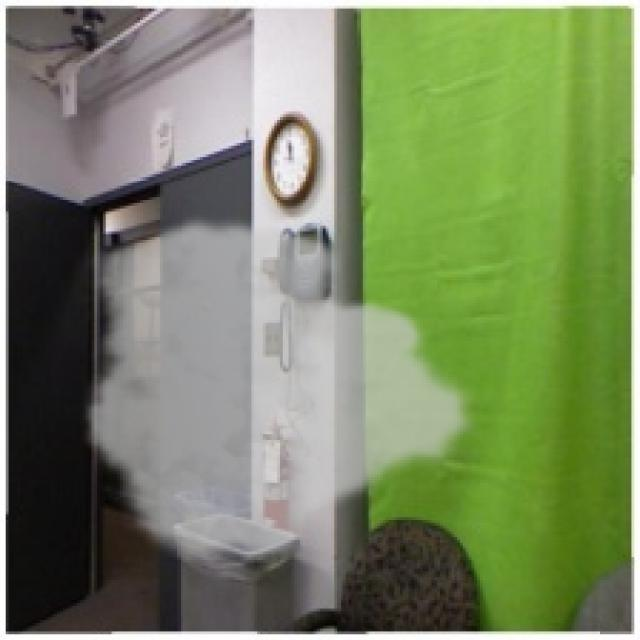smoke: (80, 214, 483, 572)
